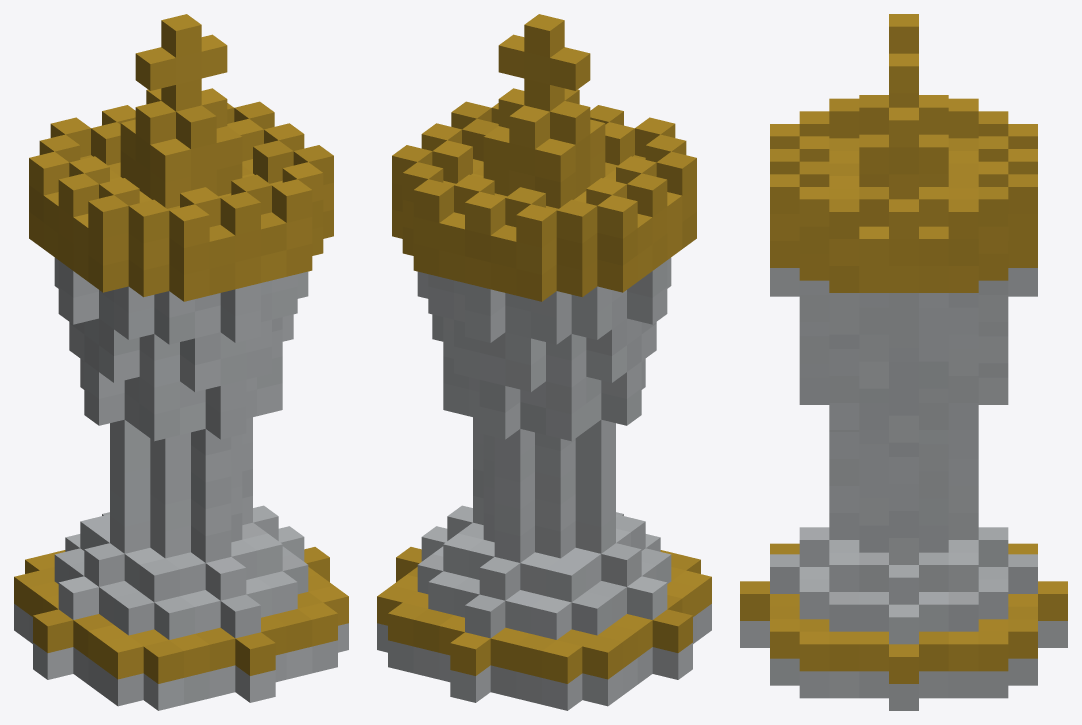
File: white_king.glb
3 renders of one model, left to right at view 1: azimuth 30°, elevation 25°; view 2: azimuth 150°, elevation 25°; view 3: azimuth 270°, elevation 25°, orthographic.
Size of the model in its own units: 1.1 by 2.3 by 1.1.
